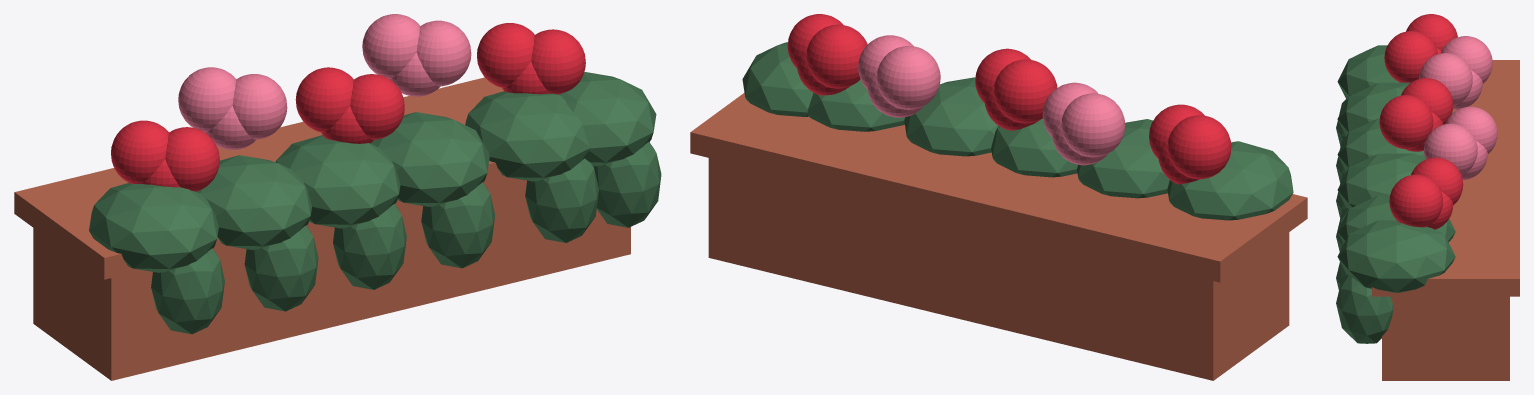
The model's file is flower-box-window.glb.
The picture shows the model from 3 angles, left to right: view 1: azimuth 30°, elevation 25°; view 2: azimuth 150°, elevation 25°; view 3: azimuth 270°, elevation 25°; orthographic projection. The views are drawn at different scales.
Visible parts, largest first — view 1: Cube, Cube.001, Icosphere, Icosphere.008, Icosphere.004, Icosphere.002, Icosphere.006, Icosphere.010, Icosphere.001, Icosphere.003, Icosphere.005, Icosphere.007 (+16 smaller); view 2: Cube, Cube.001, Icosphere, Icosphere.006, Icosphere.002, Icosphere.010, Sphere.004, Sphere.001, Sphere.010, Icosphere.004, Sphere.007, Sphere.013 (+11 smaller); view 3: Cube.001, Cube, Icosphere.010, Icosphere.006, Icosphere.011, Sphere.008, Sphere.014, Sphere.002, Icosphere.002, Sphere.011, Icosphere, Icosphere.004 (+14 smaller).
Boxes of the visible parts, left/top/right/bottom form: Cube: left=33, top=179, right=630, bottom=380; Cube.001: left=14, top=77, right=649, bottom=279; Icosphere: left=89, top=183, right=218, bottom=272; Icosphere.008: left=465, top=91, right=589, bottom=181; Icosphere.004: left=275, top=135, right=400, bottom=228; Icosphere.002: left=196, top=155, right=311, bottom=249; Icosphere.006: left=370, top=112, right=489, bottom=206; Icosphere.010: left=559, top=72, right=656, bottom=166; Icosphere.001: left=151, top=248, right=224, bottom=334; Icosphere.003: left=244, top=225, right=318, bottom=311; Icosphere.005: left=333, top=204, right=406, bottom=289; Icosphere.007: left=421, top=182, right=494, bottom=268; Cube: left=708, top=158, right=1289, bottom=380; Cube.001: left=690, top=93, right=1307, bottom=282; Icosphere: left=1167, top=141, right=1293, bottom=220; Icosphere.006: left=904, top=77, right=998, bottom=156; Icosphere.002: left=1077, top=119, right=1169, bottom=198; Icosphere.010: left=742, top=42, right=813, bottom=116; Sphere.004: left=1061, top=93, right=1125, bottom=157; Sphere.001: left=1167, top=115, right=1231, bottom=179; Sphere.010: left=876, top=46, right=940, bottom=109; Icosphere.004: left=991, top=118, right=1077, bottom=177; Sphere.007: left=993, top=59, right=1057, bottom=123; Sphere.013: left=806, top=24, right=867, bottom=88; Cube.001: left=1372, top=60, right=1519, bottom=296; Cube: left=1382, top=296, right=1509, bottom=380; Icosphere.010: left=1337, top=220, right=1455, bottom=292; Icosphere.006: left=1337, top=153, right=1425, bottom=208; Icosphere.011: left=1336, top=274, right=1393, bottom=343; Sphere.008: left=1379, top=95, right=1433, bottom=149; Sphere.014: left=1389, top=174, right=1442, bottom=227; Sphere.002: left=1384, top=31, right=1437, bottom=82; Icosphere.002: left=1337, top=82, right=1452, bottom=136; Sphere.011: left=1423, top=123, right=1477, bottom=175; Icosphere: left=1337, top=45, right=1399, bottom=99; Icosphere.004: left=1337, top=118, right=1424, bottom=171.
Bounding box in the file's own units: 1.07 × 0.445 × 0.373.
